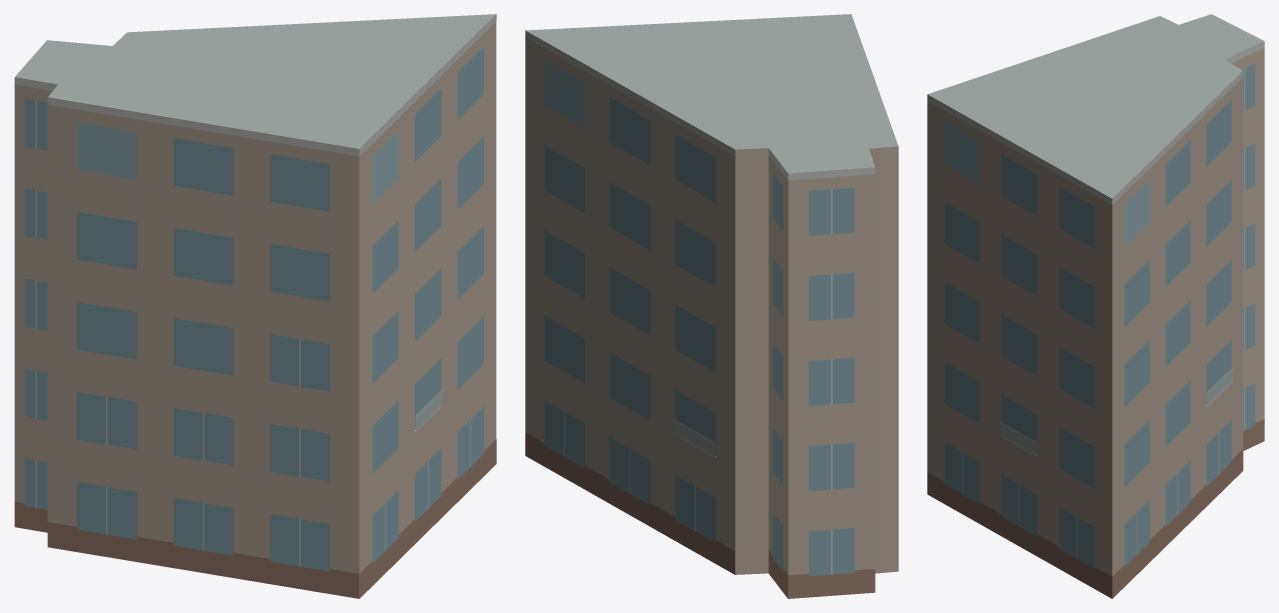
Rendered from survey-upis-32756759.glb.
The picture shows the model from 3 angles, left to right: view 1: azimuth 30°, elevation 25°; view 2: azimuth 150°, elevation 25°; view 3: azimuth 270°, elevation 25°; orthographic projection. The views are drawn at different scales.
Parts seen in each view (by area): view 1: survey-upis-32756759.tmp; view 2: survey-upis-32756759.tmp; view 3: survey-upis-32756759.tmp.
Boxes of the visible parts, box(x1,y1,x2,y2) form: survey-upis-32756759.tmp: box(14, 14, 496, 598); survey-upis-32756759.tmp: box(525, 14, 898, 598); survey-upis-32756759.tmp: box(927, 14, 1264, 598).
Size of the model in its own units: 14.77 by 14.9 by 11.39.
